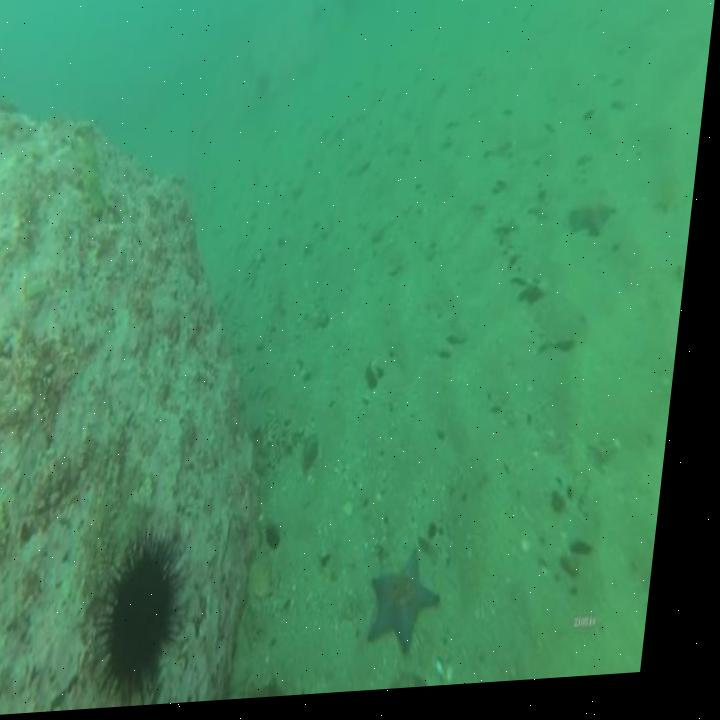echinus: (110, 532, 201, 705)
holothurian: (71, 120, 117, 223)
starfish: (379, 549, 462, 665), (575, 190, 623, 246)
